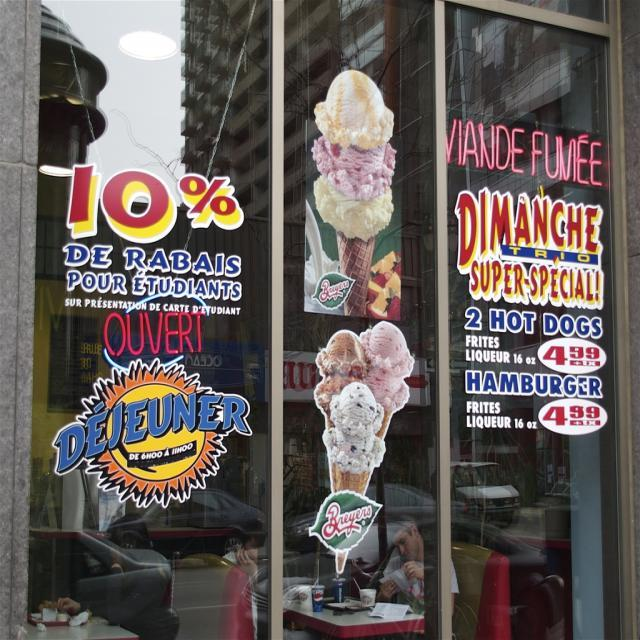Ice cream: (311, 68, 396, 320), (322, 382, 386, 570), (364, 329, 416, 435), (315, 331, 365, 433)
